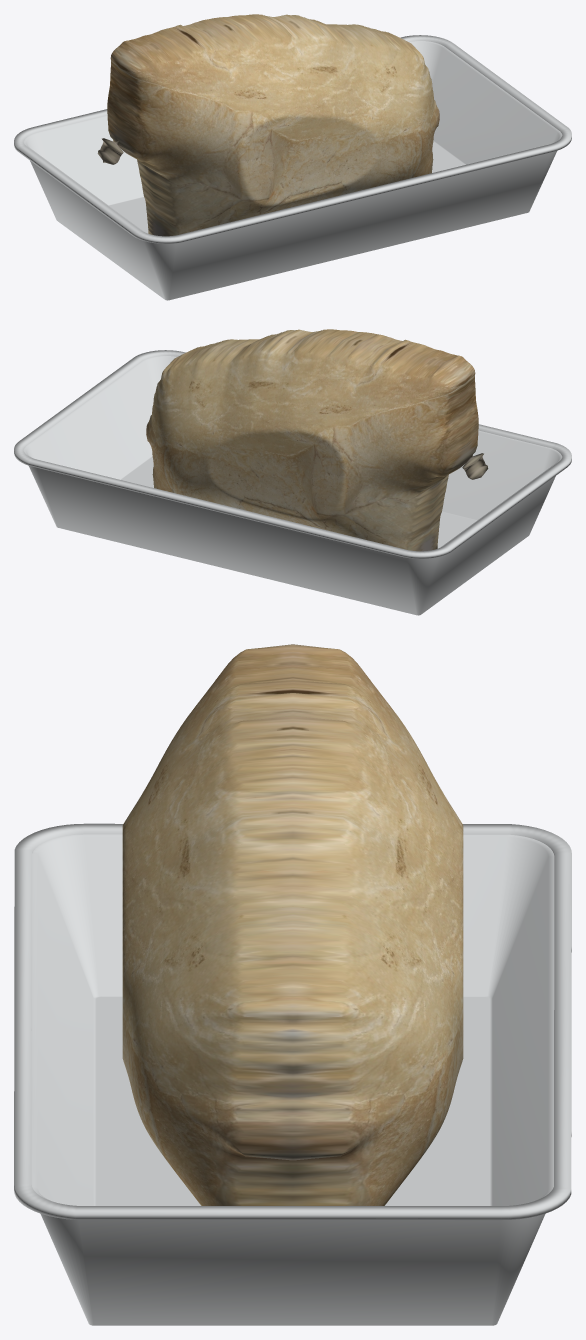
Rendered from rocha_calcaria_13_06_web.glb.
3 renders of one model, top to bottom at view 1: azimuth 30°, elevation 25°; view 2: azimuth 150°, elevation 25°; view 3: azimuth 270°, elevation 25°, orthographic. The views are drawn at different scales.
Visible parts, largest first — view 1: Rocha_Calcaria, Bandeja_Plastica; view 2: Rocha_Calcaria, Bandeja_Plastica; view 3: Rocha_Calcaria, Bandeja_Plastica.
Boxes of the visible parts, bbox=[...] form: Rocha_Calcaria: bbox=[97, 14, 439, 236]; Bandeja_Plastica: bbox=[14, 35, 571, 300]; Rocha_Calcaria: bbox=[146, 329, 488, 551]; Bandeja_Plastica: bbox=[14, 350, 571, 615]; Rocha_Calcaria: bbox=[122, 644, 463, 1205]; Bandeja_Plastica: bbox=[14, 823, 571, 1325].
Size of the model in its own units: 0.314 by 0.1427 by 0.19.
Materials: 2 (1 with a texture image).
